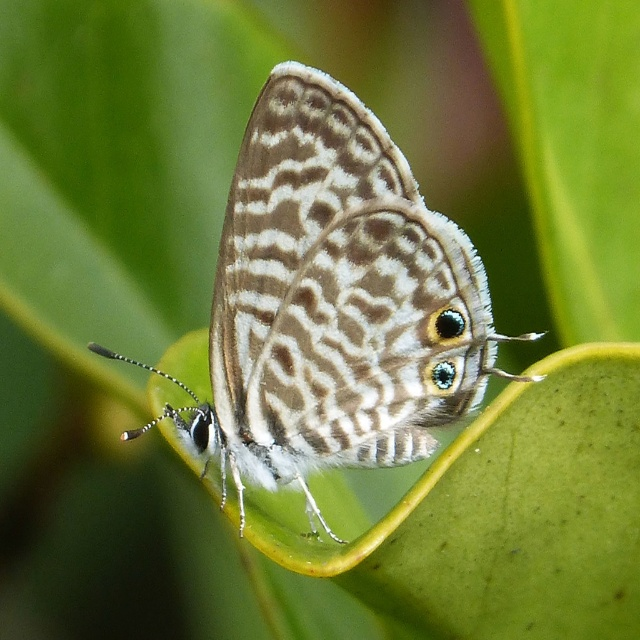Butterfly: (88, 61, 551, 546)
